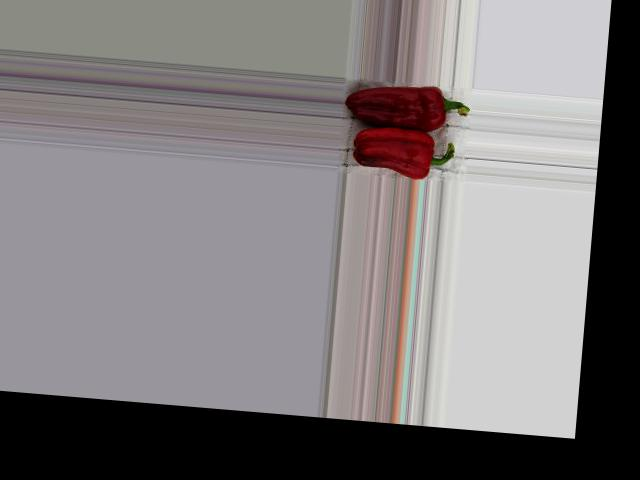bell_pepper: (343, 80, 474, 136)
